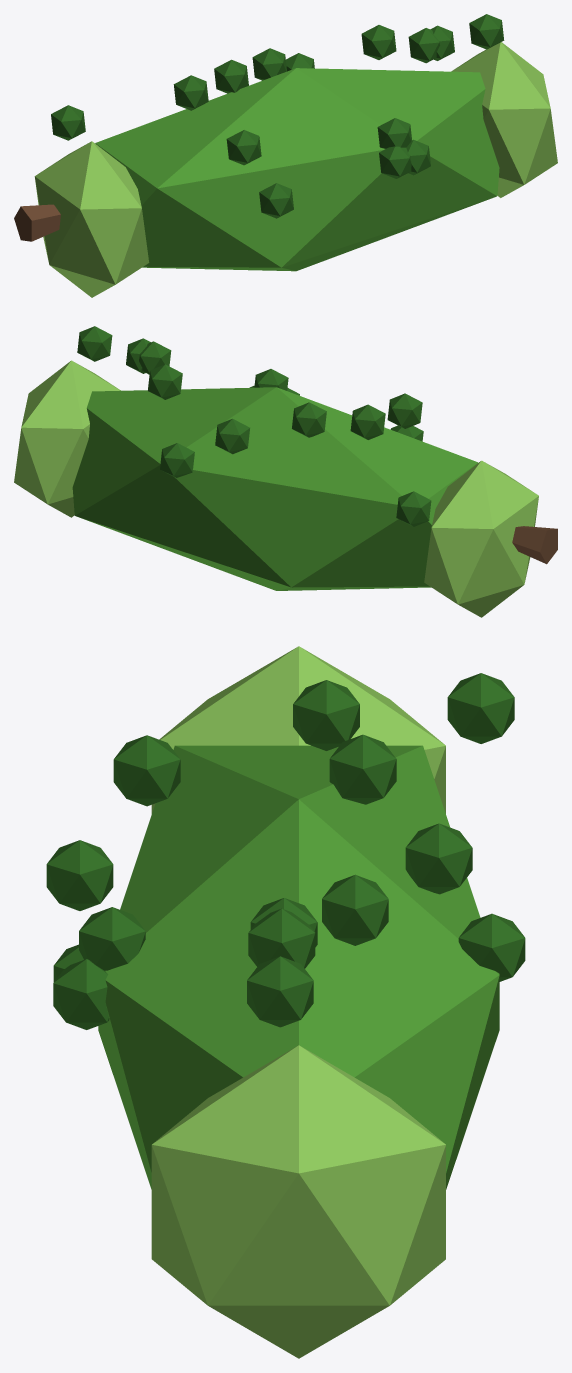
The model's file is cucumber.glb.
The picture shows the model from 3 angles, top to bottom: view 1: azimuth 30°, elevation 25°; view 2: azimuth 150°, elevation 25°; view 3: azimuth 270°, elevation 25°; orthographic projection. The views are drawn at different scales.
Parts seen in each view (by area): view 1: cucumber; view 2: cucumber; view 3: cucumber.
Boxes of the visible parts, x1,y1,x2,y2 form: cucumber: (14, 14, 557, 297); cucumber: (14, 326, 557, 617); cucumber: (46, 646, 525, 1358).
Bounding box in the file's own units: 1.53 × 0.6044 × 0.6088.
